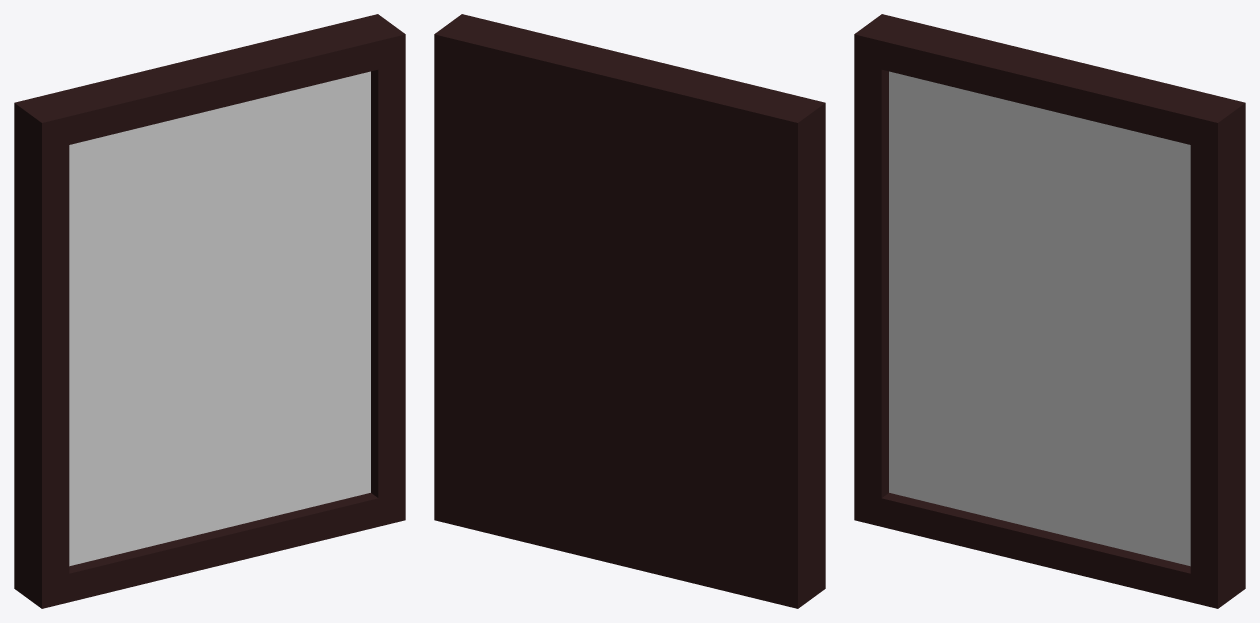
The model's file is PaintingMedium_Empty.fbx.
3 renders of one model, left to right at view 1: azimuth 30°, elevation 25°; view 2: azimuth 150°, elevation 25°; view 3: azimuth 330°, elevation 25°, orthographic.
Parts seen in each view (by area): view 1: Painting_Medium; view 2: Painting_Medium; view 3: Painting_Medium.
Part boxes in pixels (bbox=[...]): Painting_Medium: bbox=[14, 14, 405, 608]; Painting_Medium: bbox=[434, 14, 825, 608]; Painting_Medium: bbox=[854, 14, 1245, 608].
Bounding box in the file's own units: 59.04 × 75.36 × 7.81.
